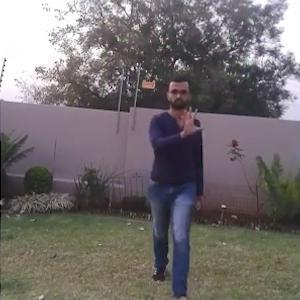follow_hand: (174, 105, 204, 137)
